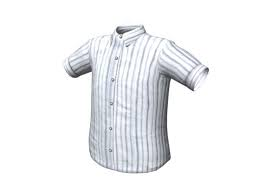striped: (60, 23, 211, 176)
